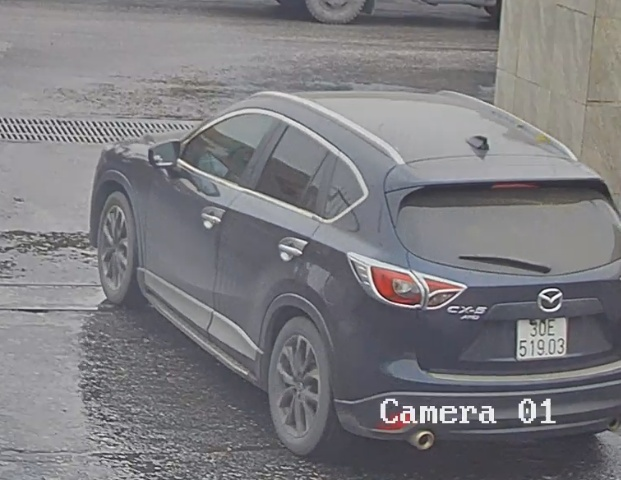vehicle plate: (513, 310, 572, 359)
